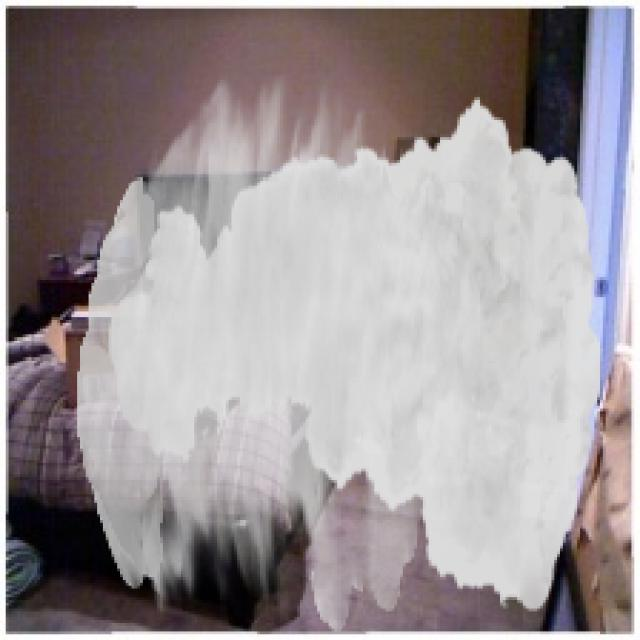smoke: (77, 74, 603, 632)
